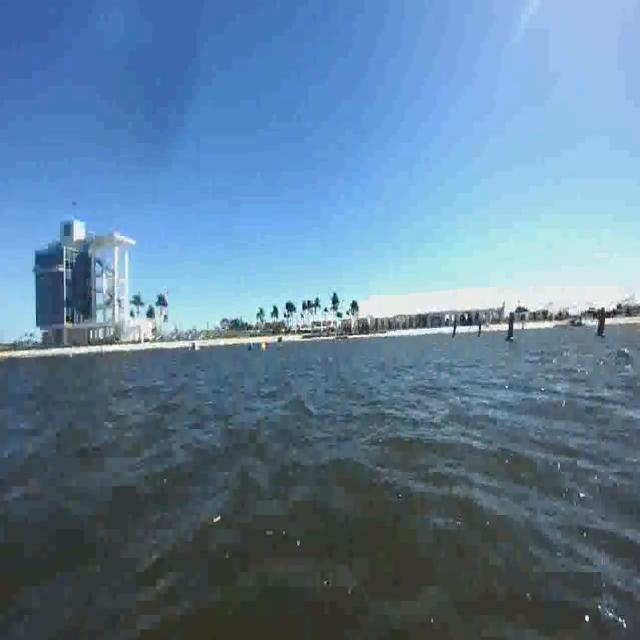yellow-buoy: (260, 341, 267, 351)
